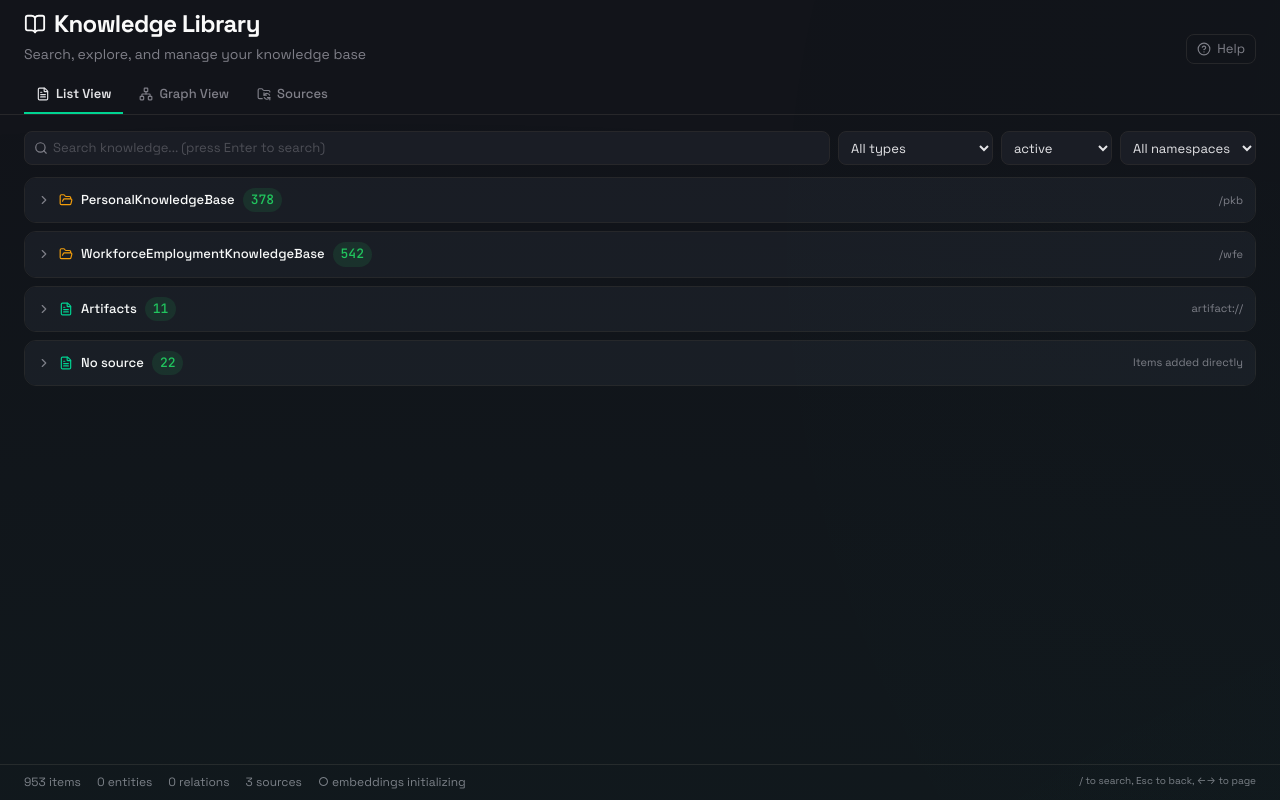
Test case: Knowledge List View — source-first rows › shows an in-group pager scoped to the expanded source total
Click the text "PersonalKnowledgeBase": (158, 200) [81, 190, 235, 210]
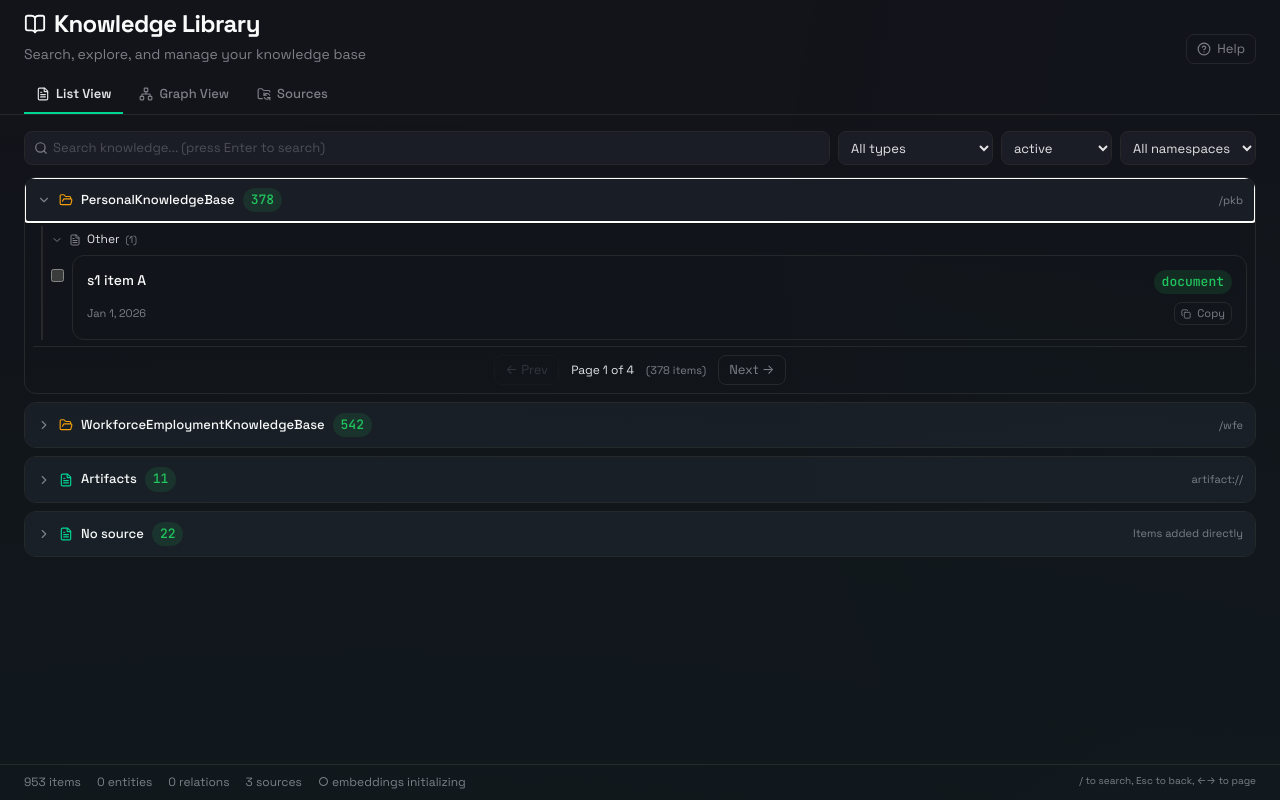
expect the text "Page 1 of 4" is shown: met, box [571, 361, 634, 380]
